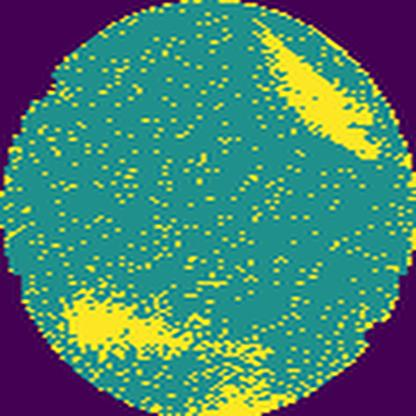Edge-Loc: (252, 15, 382, 160), (60, 288, 198, 356)
